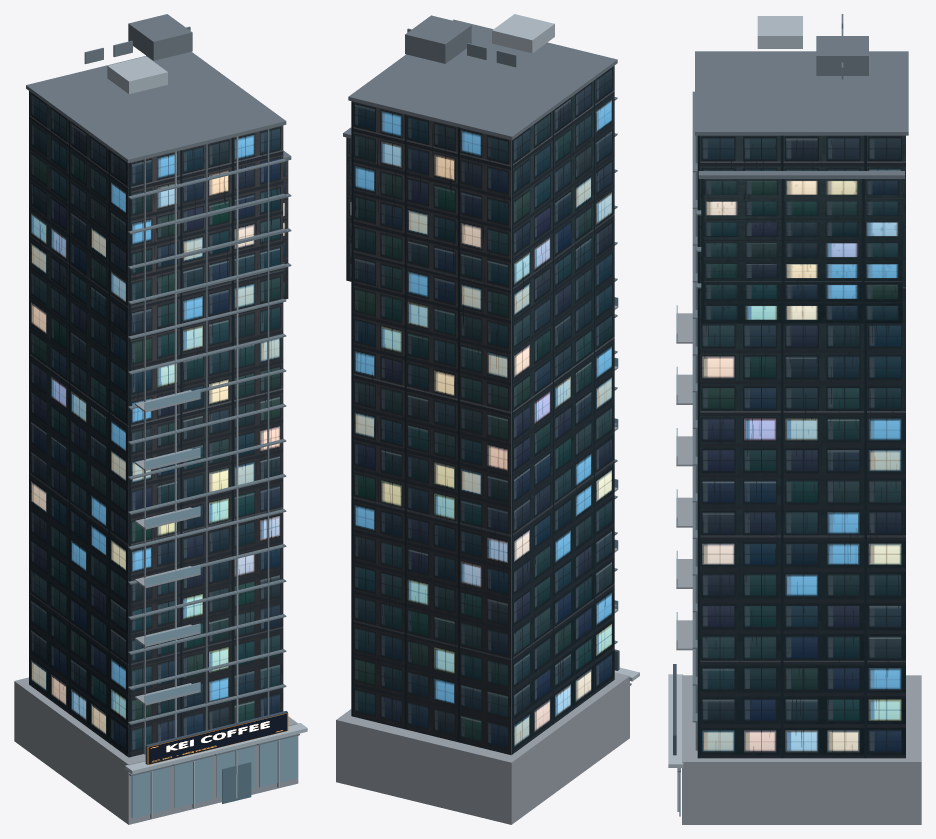
Rendered from building_07.glb.
3 views of the same model, side by side, from view 1: azimuth 30°, elevation 25°; view 2: azimuth 150°, elevation 25°; view 3: azimuth 270°, elevation 25° (orthographic). The views are drawn at different scales.
Parts seen in each view (by area): view 1: facade_0, facade_sideb_3, roof, frame, concrete, glass, alum, sign_8, tint, facade_4; view 2: facade_back_1, facade_sideb_3, concrete, roof, alum, facade_back_5, frame, facade_side_2; view 3: facade_side_2, facade_side_6, concrete, roof, frame, alum, glass.
Part boxes in pixels (x1=…): facade_0: x1=129, y1=125, x2=283, y2=757; facade_sideb_3: x1=29, y1=91, x2=128, y2=757; roof: x1=26, y1=14, x2=291, y2=162; frame: x1=84, y1=26, x2=299, y2=776; concrete: x1=14, y1=163, x2=298, y2=824; glass: x1=131, y1=389, x2=296, y2=818; alum: x1=107, y1=56, x2=307, y2=818; sign_8: x1=147, y1=713, x2=288, y2=764; tint: x1=222, y1=762, x2=251, y2=803; facade_4: x1=283, y1=160, x2=288, y2=299; facade_back_1: x1=351, y1=101, x2=511, y2=754; facade_sideb_3: x1=511, y1=65, x2=614, y2=754; concrete: x1=336, y1=140, x2=629, y2=824; roof: x1=343, y1=15, x2=617, y2=140; alum: x1=492, y1=14, x2=639, y2=681; facade_back_5: x1=346, y1=137, x2=351, y2=281; frame: x1=407, y1=28, x2=631, y2=685; facade_side_2: x1=351, y1=101, x2=351, y2=715; facade_side_2: x1=697, y1=135, x2=905, y2=758; facade_side_6: x1=701, y1=179, x2=902, y2=323; concrete: x1=676, y1=313, x2=921, y2=824; roof: x1=695, y1=36, x2=908, y2=178; frame: x1=677, y1=14, x2=843, y2=772; alum: x1=668, y1=16, x2=802, y2=811; glass: x1=676, y1=305, x2=680, y2=816.
Bounding box in the file's own units: 23.2 × 90.2 × 27.7.
Materials: 18 (9 with a texture image).
